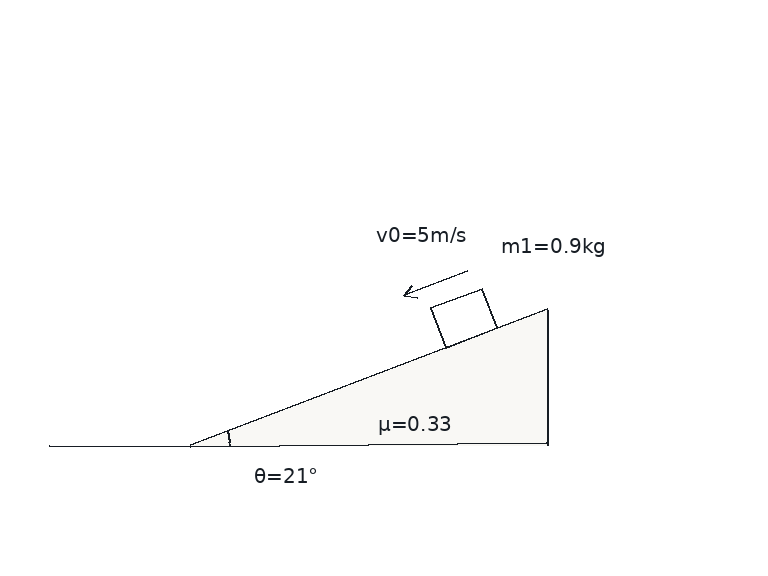block: (429, 287, 499, 349)
ramp: (188, 306, 549, 447)
